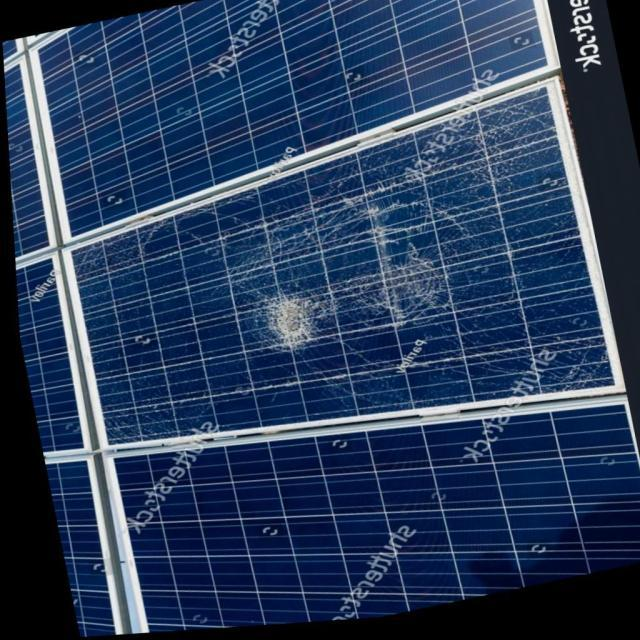cracked: (57, 84, 612, 457)
